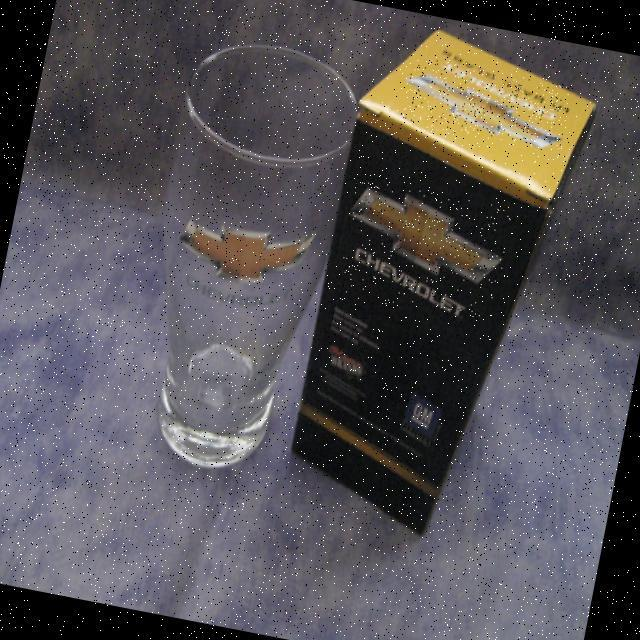Chevrolet: (334, 178, 515, 327), (399, 56, 573, 155), (170, 206, 318, 319)
